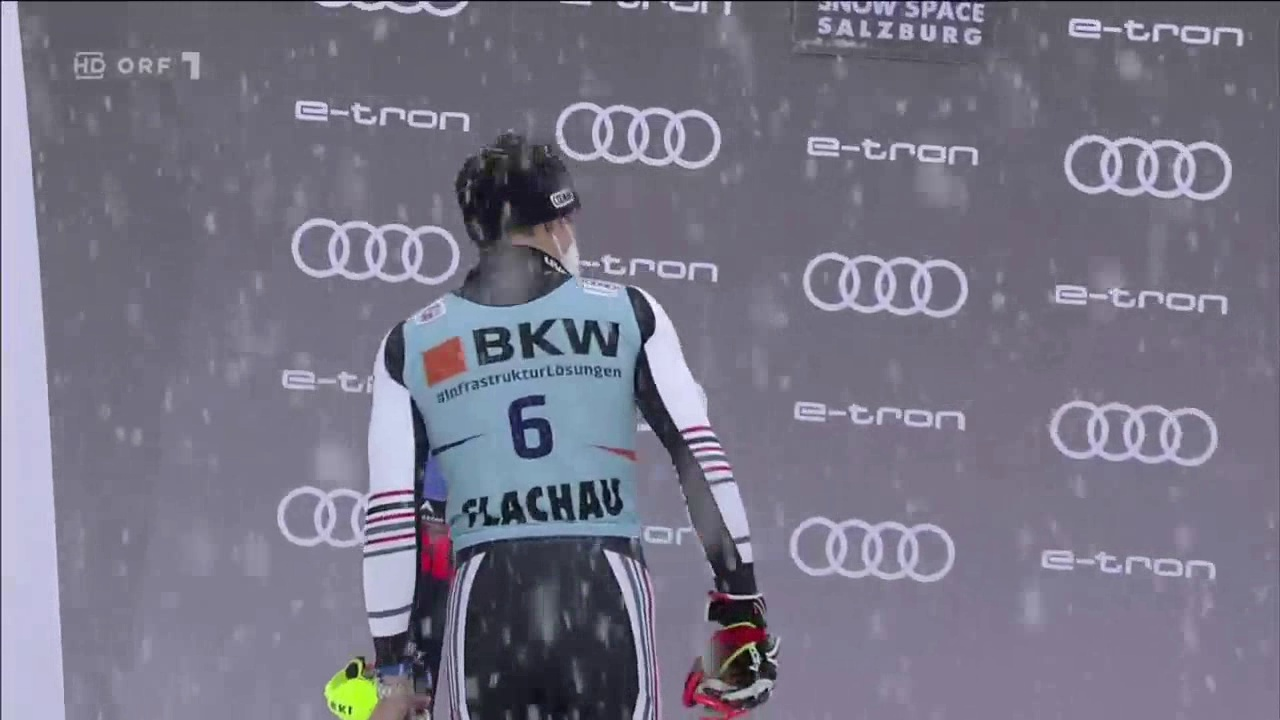audi: (294, 221, 463, 293), (1063, 136, 1232, 205), (1051, 403, 1217, 472), (804, 255, 966, 323), (795, 518, 949, 589), (556, 104, 718, 171), (276, 487, 378, 553), (331, 1, 460, 22)
etron: (805, 135, 986, 169), (292, 100, 472, 134), (1068, 18, 1253, 51), (1041, 551, 1220, 585), (793, 400, 970, 434), (1046, 286, 1231, 318), (578, 252, 725, 287), (278, 366, 383, 398)
